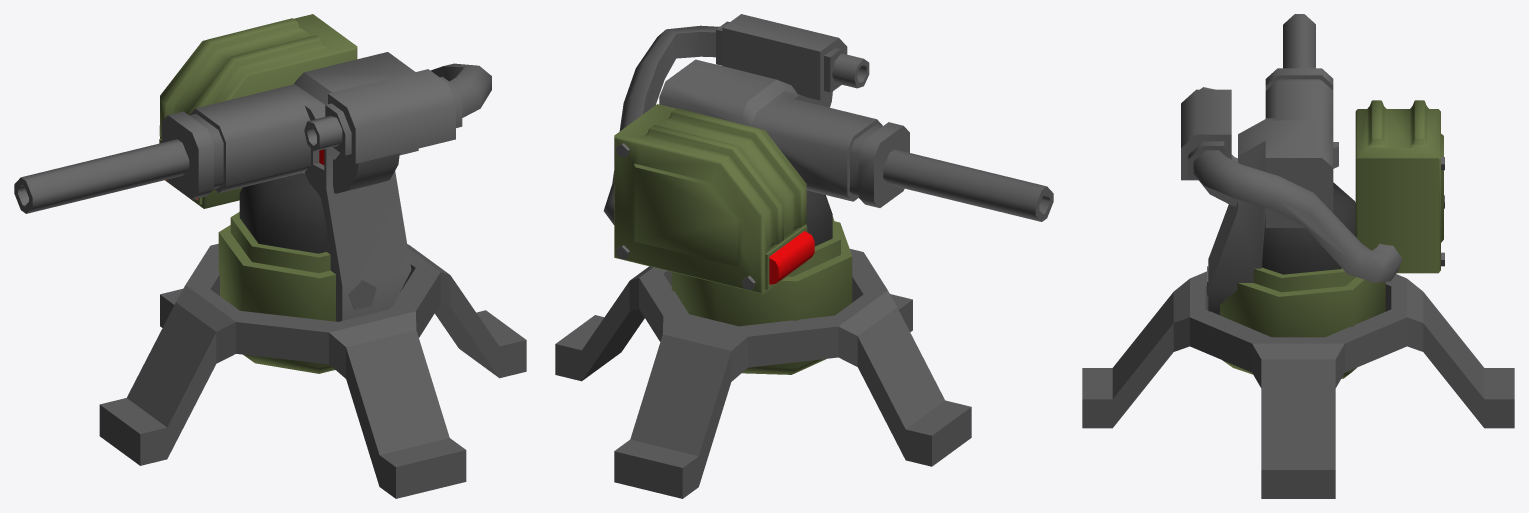
The model's file is turretUSU.glb.
The picture shows the model from 3 angles, left to right: view 1: azimuth 30°, elevation 25°; view 2: azimuth 150°, elevation 25°; view 3: azimuth 270°, elevation 25°; orthographic projection. The views are drawn at different scales.
Parts seen in each view (by area): view 1: Cylinder, Cube; view 2: Cylinder, Cube; view 3: Cylinder, Cube.
Boxes of the visible parts, bbox=[...] form: Cylinder: bbox=[14, 14, 491, 373]; Cube: bbox=[99, 243, 526, 498]; Cylinder: bbox=[603, 14, 1053, 374]; Cube: bbox=[555, 249, 971, 498]; Cylinder: bbox=[1181, 14, 1444, 378]; Cube: bbox=[1082, 271, 1514, 498].
Size of the model in its own units: 4.34 by 2.95 by 3.68.
